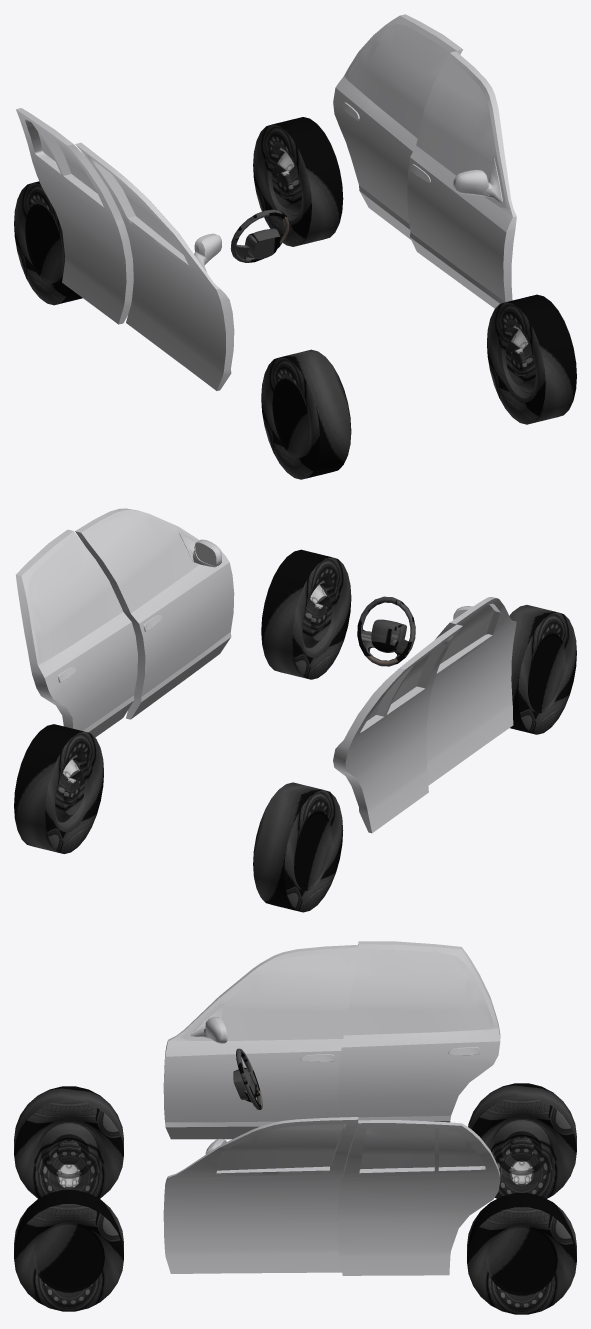
File: Car_Police.glb
3 renders of one model, top to bottom at view 1: azimuth 30°, elevation 25°; view 2: azimuth 150°, elevation 25°; view 3: azimuth 270°, elevation 25°, orthographic. The views are drawn at different scales.
Parts seen in each view (by area): view 1: Car_Police; view 2: Car_Police; view 3: Car_Police.
Boxes of the visible parts, bbox=[...] form: Car_Police: bbox=[14, 14, 576, 479]; Car_Police: bbox=[14, 508, 576, 912]; Car_Police: bbox=[14, 941, 576, 1314].
Bounding box in the file's own units: 21.93 × 12.4 × 28.71.
3 materials, 2 textured.
